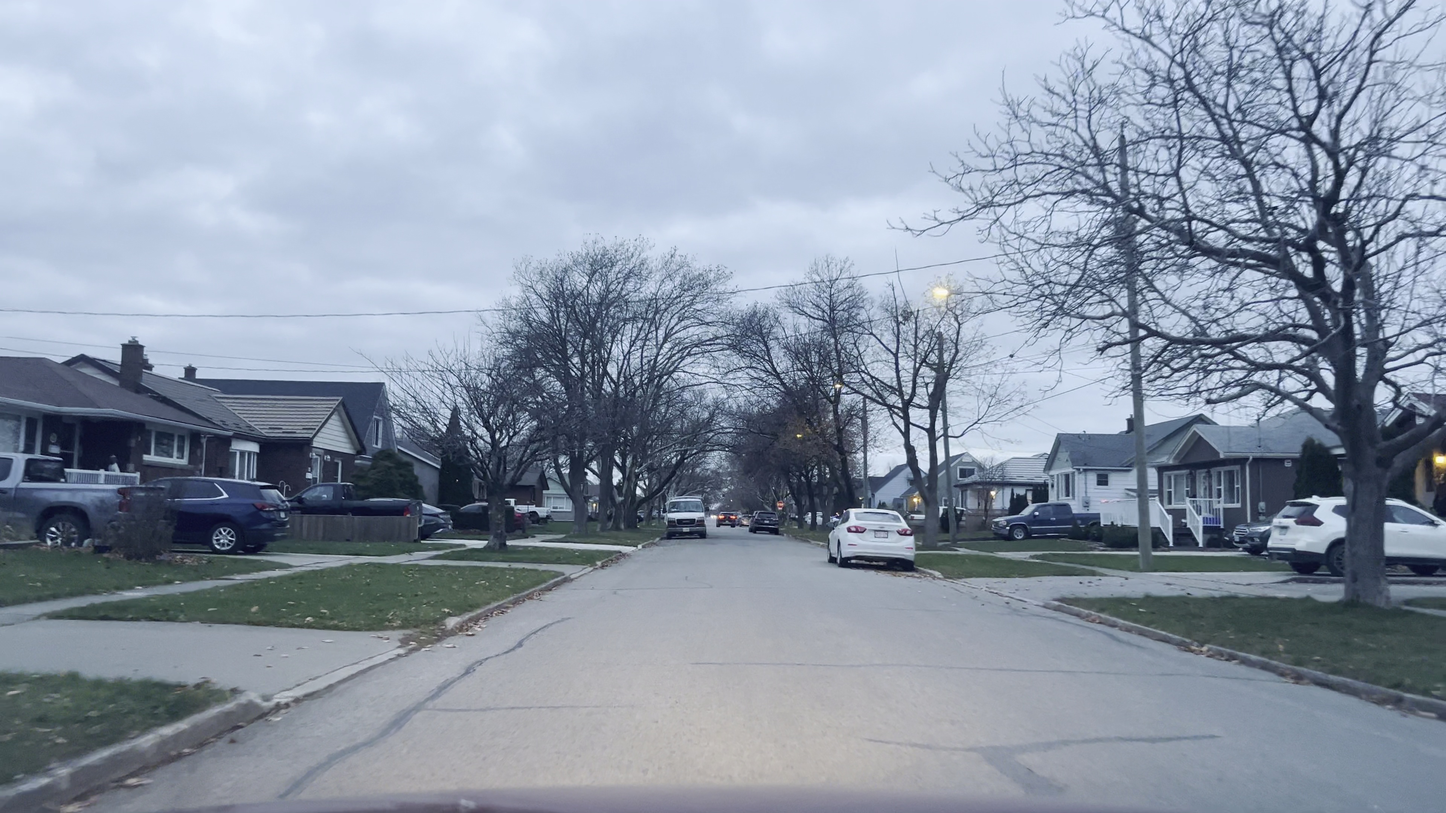cracks: (265, 614, 571, 797), (936, 724, 1233, 799)
